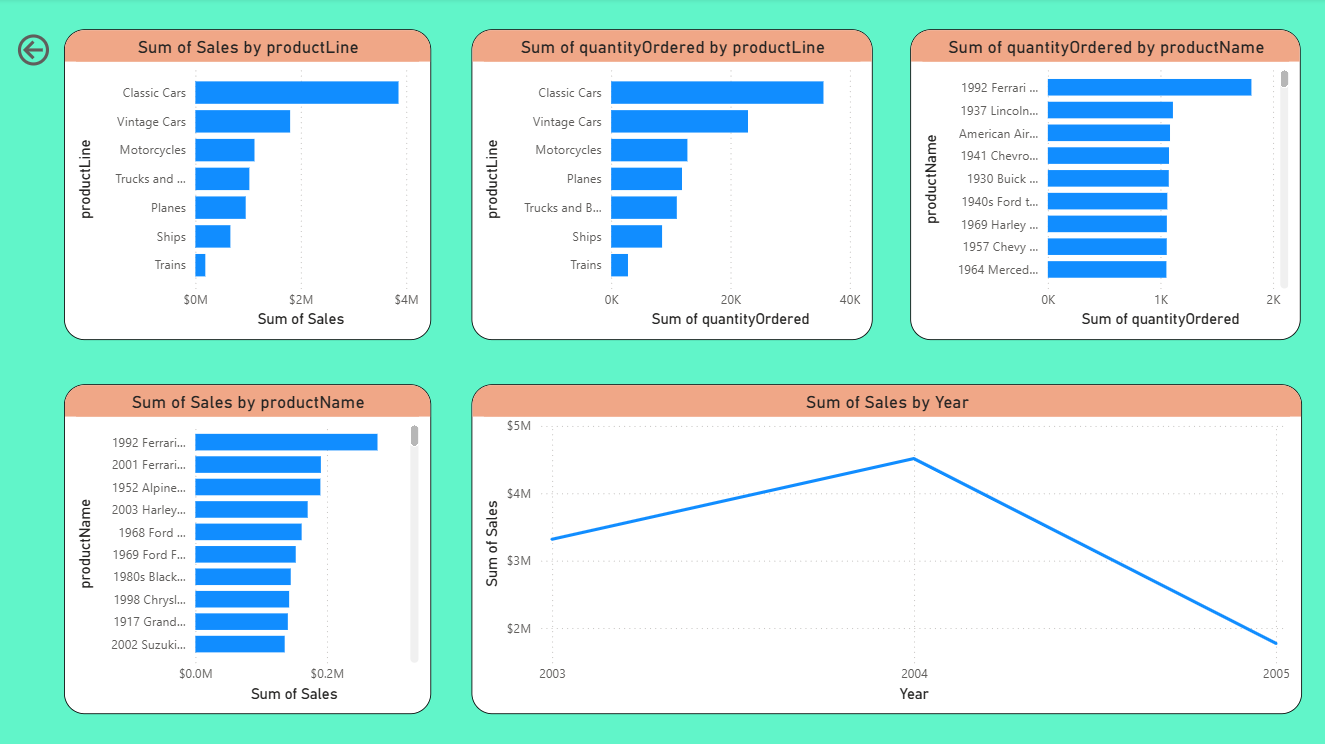

What the dashboard file says about the page in this screenshot:
{"tool":"powerbi","page":{"name":"Page 4","canvas":[1280,720],"ordinal":3},"visuals":[{"type":"actionButton","box":[12.9,30,100,40],"z":0},{"type":"barChart","fields":{"Category":["products.productLine"],"Y":["Sum(order_details.Sales)"]},"box":[62.9,30,354.3,300],"z":1000},{"type":"barChart","fields":{"Category":["products.productLine"],"Y":["Sum(order_details.quantityOrdered)"]},"box":[455.7,30,387.1,300],"z":2000},{"type":"barChart","fields":{"Y":["Sum(order_details.quantityOrdered)"],"Category":["products.productName"]},"box":[880,30,377.1,300],"z":3000},{"type":"barChart","fields":{"Category":["products.productName"],"Y":["Sum(order_details.Sales)"]},"box":[62.9,372.9,354.3,318.6],"z":4000},{"type":"lineChart","fields":{"Y":["Sum(order_details.Sales)"],"Category":["orders.Year"]},"box":[455.7,372.9,801.4,318.6],"z":5000}]}

Visuals, with their boxes in screenshot pixels (x1, y1, x2, y2), scaled from the page's 1280x720 canvas onto the 1325x744 screenshot:
actionButton: (13, 31, 117, 72)
barChart - products.productLine x Sum(order_details.Sales): (65, 31, 432, 341)
barChart - products.productLine x Sum(order_details.quantityOrdered): (472, 31, 872, 341)
barChart - Sum(order_details.quantityOrdered) x products.productName: (911, 31, 1301, 341)
barChart - products.productName x Sum(order_details.Sales): (65, 385, 432, 715)
lineChart - Sum(order_details.Sales) x orders.Year: (472, 385, 1301, 715)
